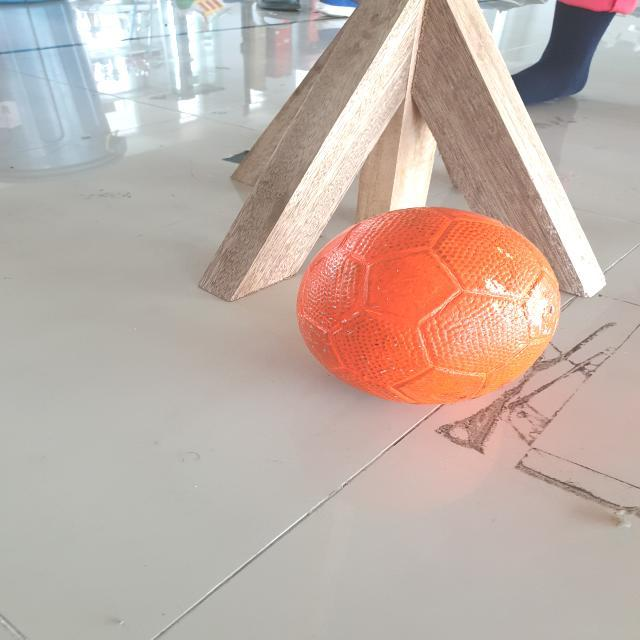bola: (273, 185, 595, 433)
